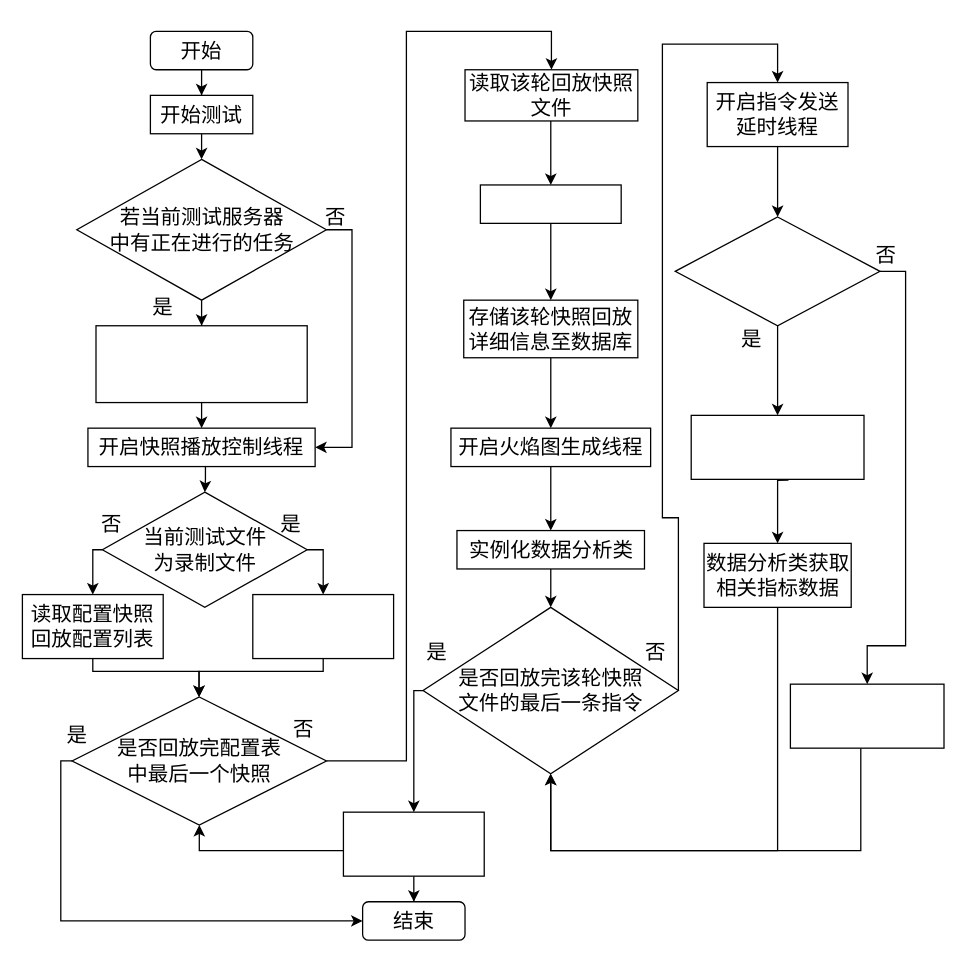
Image size: 966x963. Some labels were removed from this diagram. The shapes that lost their labels are listed below. From the top down, each one's centre as x and y in pixels, then its label:
At pixel 550 203: "开始播放".
At pixel 777 271: "当前指令是否 是行军指令".
At pixel 201 363: "停止测试服务器中正在进行的快照播放任务".
At pixel 777 446: "寻路系统对行军指令做出相应处理".
At pixel 323 626: "读取录制快照 回放配置列表".
At pixel 866 715: "相关系统对指令做出相应处理".
At pixel 413 843: "清空数据分析类，结束监控".
